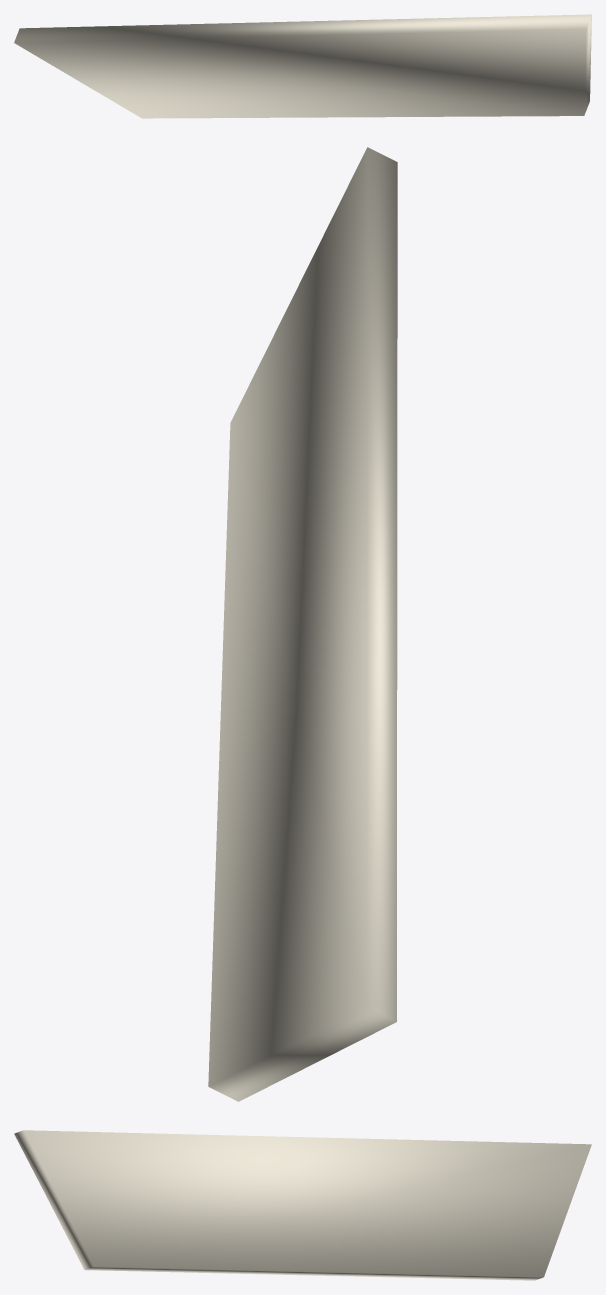
3 views of the same model, one above another, from view 1: azimuth 30°, elevation 25°; view 2: azimuth 150°, elevation 25°; view 3: azimuth 270°, elevation 25° (orthographic). The views are drawn at different scales.
Parts seen in each view (by area): view 1: ZA_0fda6b150e1917b6; view 2: ZA_0fda6b150e1917b6; view 3: ZA_0fda6b150e1917b6.
Part boxes in pixels (left/top/right/bottom): ZA_0fda6b150e1917b6: left=14, top=14, right=591, bottom=118; ZA_0fda6b150e1917b6: left=208, top=147, right=397, bottom=1101; ZA_0fda6b150e1917b6: left=14, top=1130, right=591, bottom=1280.
Bounding box in the file's own units: 0.0105 × 0.0075 × 0.0161.
